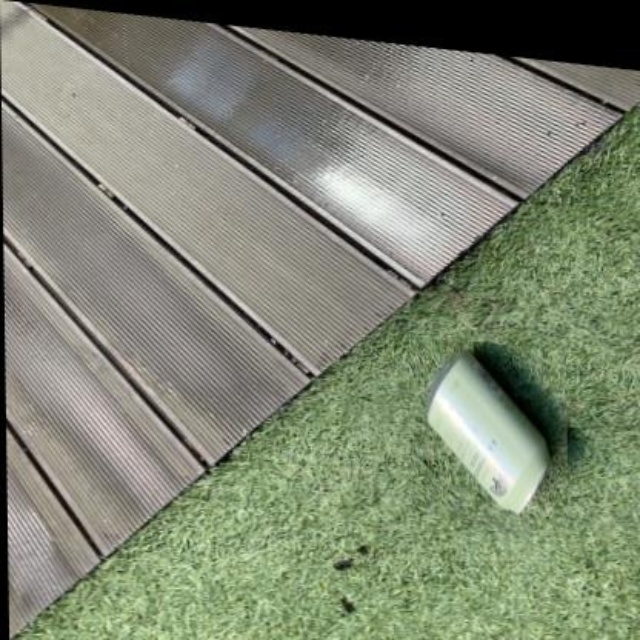trash: (428, 354, 548, 512)
